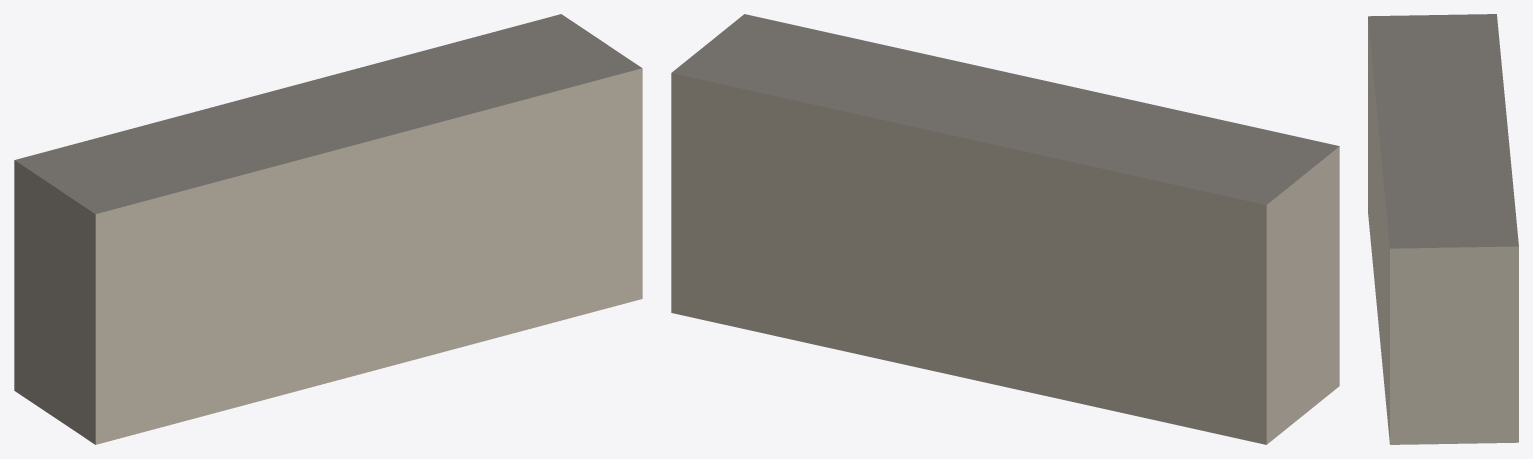
3 renders of one model, left to right at view 1: azimuth 30°, elevation 25°; view 2: azimuth 150°, elevation 25°; view 3: azimuth 270°, elevation 25°, orthographic. The views are drawn at different scales.
Parts seen in each view (by area): view 1: HP-w1424106483; view 2: HP-w1424106483; view 3: HP-w1424106483.
Part boxes in pixels (left/top/right/bottom): HP-w1424106483: left=14, top=14, right=642, bottom=444; HP-w1424106483: left=671, top=14, right=1339, bottom=444; HP-w1424106483: left=1368, top=14, right=1518, bottom=444.
Bounding box in the file's own units: 38.45 × 15 × 10.46.
